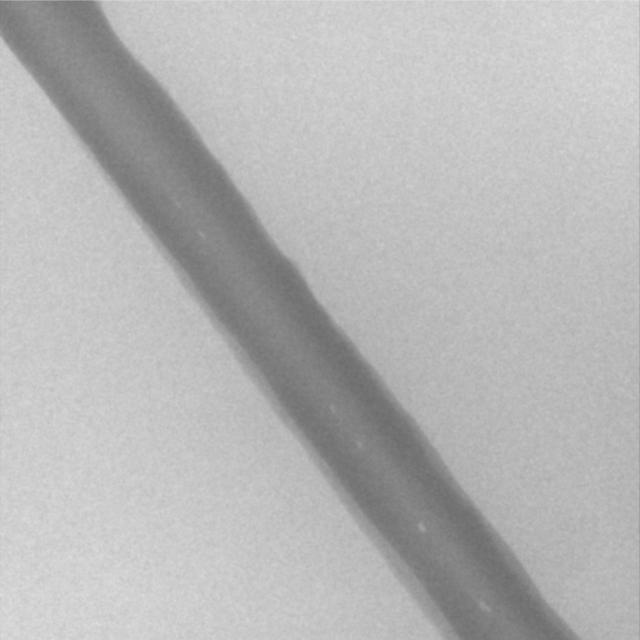air hole: (417, 522, 427, 533), (354, 439, 363, 449), (328, 404, 337, 413)
